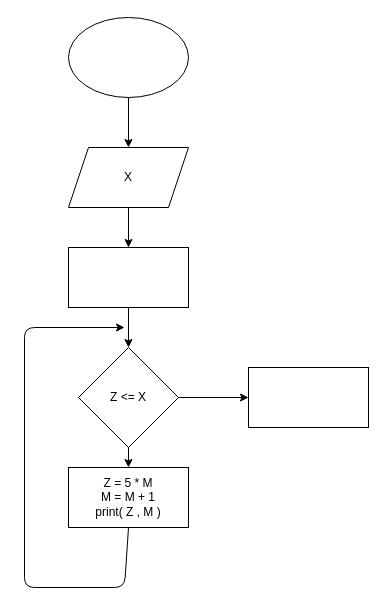
This 386x613 diagram has some shape labels left out. The shapes that lost their labels are listed below. From the top down, each one's box as (x1, y1, x2, y2) in pixels, then its label:
(68, 16, 188, 98): INICIO
(68, 246, 188, 308): M = 1
